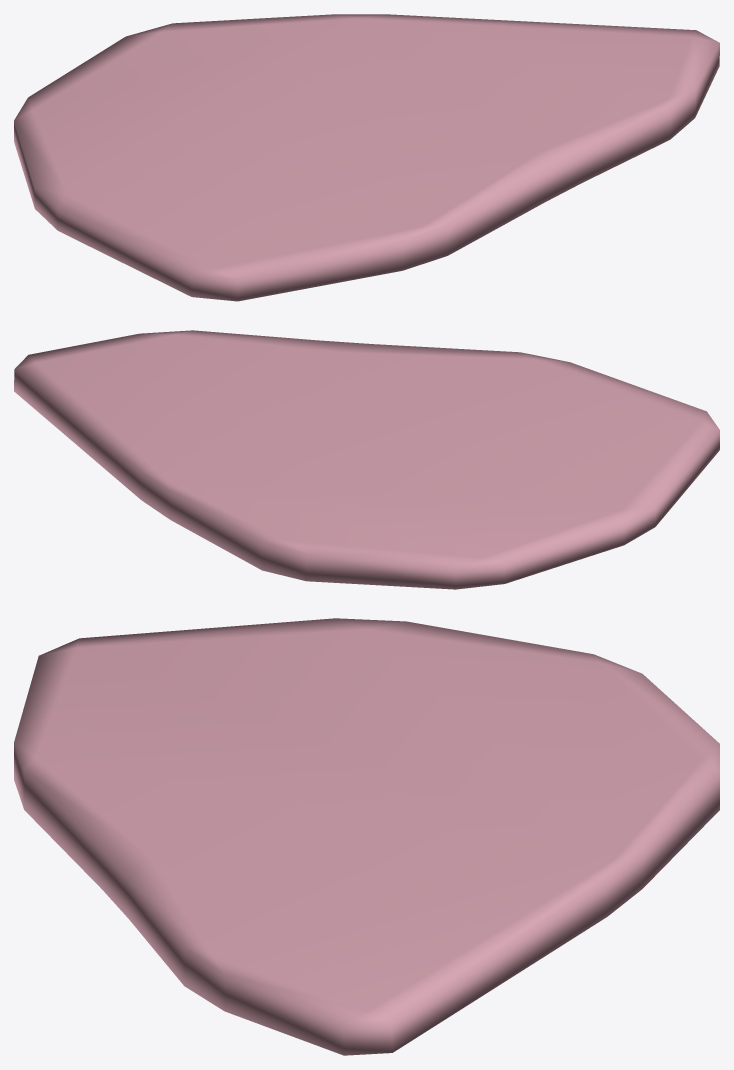
File: ScrapCloth1.fbx
3 views of the same model, one above another, from view 1: azimuth 30°, elevation 25°; view 2: azimuth 150°, elevation 25°; view 3: azimuth 270°, elevation 25° (orthographic). The views are drawn at different scales.
Parts seen in each view (by area): view 1: Cylinder; view 2: Cylinder; view 3: Cylinder.
Part boxes in pixels (<box>): Cylinder: <box>14,14,719,301</box>; Cylinder: <box>14,330,719,589</box>; Cylinder: <box>14,618,719,1055</box>.
Size of the model in its own units: 210 by 10.41 by 153.
